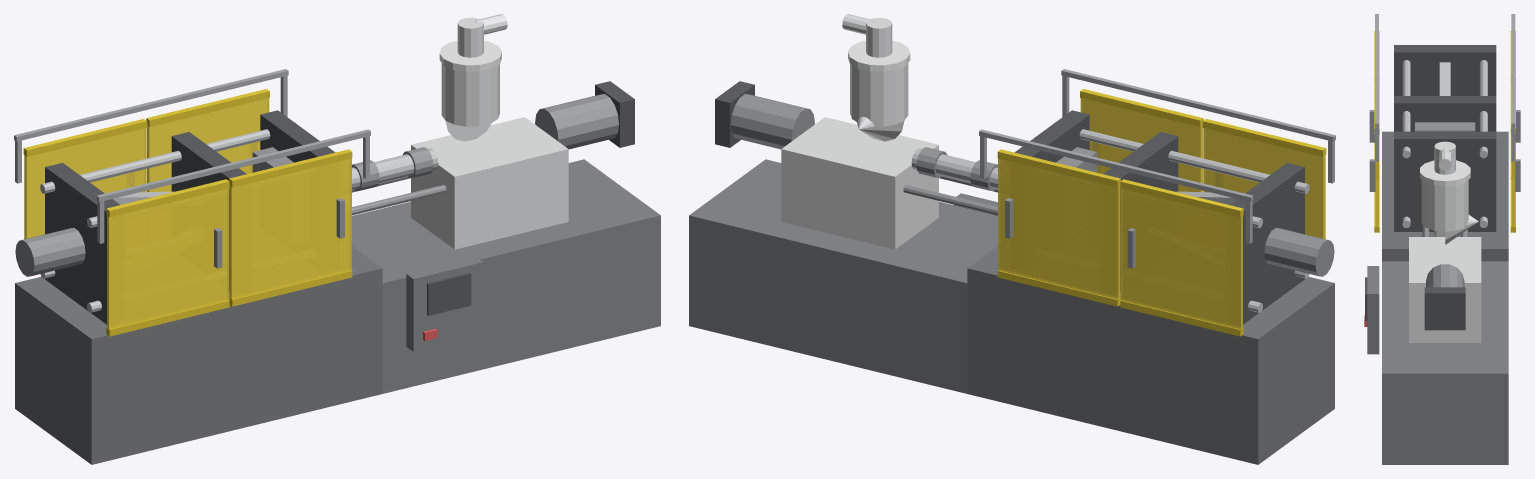
The model's file is injection_machine.glb.
The picture shows the model from 3 angles, left to right: view 1: azimuth 30°, elevation 25°; view 2: azimuth 150°, elevation 25°; view 3: azimuth 270°, elevation 25°; orthographic projection. The views are drawn at different scales.
Parts seen in each view (by area): view 1: part_0, part_1, part_42, part_35, part_31, part_10, part_24, part_58, part_20, part_50, part_53, part_19 (+17 smaller); view 2: part_0, part_1, part_42, part_24, part_20, part_10, part_35, part_31, part_50, part_53, part_19, part_9 (+16 smaller); view 3: part_1, part_8, part_42, part_10, part_0, part_9, part_53, part_51, part_58, part_54, part_50, part_16 (+15 smaller).
Part boxes in pixels (x1=…): part_0: x1=15, y1=246, x2=382, y2=464; part_1: x1=352, y1=159, x2=660, y2=393; part_42: x1=411, y1=117, x2=568, y2=249; part_35: x1=107, y1=180, x2=229, y2=334; part_31: x1=229, y1=151, x2=351, y2=305; part_10: x1=45, y1=162, x2=119, y2=324; part_24: x1=24, y1=122, x2=146, y2=239; part_58: x1=406, y1=257, x2=482, y2=351; part_20: x1=147, y1=89, x2=269, y2=191; part_50: x1=535, y1=94, x2=618, y2=149; part_53: x1=441, y1=63, x2=499, y2=126; part_19: x1=15, y1=227, x2=85, y2=276; part_0: x1=967, y1=246, x2=1334, y2=464; part_1: x1=689, y1=159, x2=997, y2=393; part_42: x1=781, y1=117, x2=938, y2=249; part_24: x1=1120, y1=180, x2=1242, y2=329; part_20: x1=998, y1=150, x2=1120, y2=305; part_10: x1=1230, y1=162, x2=1304, y2=324; part_35: x1=1203, y1=128, x2=1325, y2=239; part_31: x1=1080, y1=90, x2=1202, y2=191; part_50: x1=731, y1=94, x2=814, y2=149; part_53: x1=850, y1=63, x2=908, y2=126; part_19: x1=1264, y1=227, x2=1334, y2=276; part_9: x1=1103, y1=132, x2=1178, y2=290; part_1: x1=1382, y1=261, x2=1508, y2=464; part_8: x1=1394, y1=131, x2=1496, y2=231; part_42: x1=1409, y1=237, x2=1481, y2=342; part_10: x1=1394, y1=45, x2=1496, y2=95; part_0: x1=1382, y1=131, x2=1508, y2=261; part_9: x1=1394, y1=96, x2=1496, y2=131; part_53: x1=1421, y1=180, x2=1468, y2=231; part_51: x1=1424, y1=287, x2=1465, y2=330; part_58: x1=1367, y1=266, x2=1379, y2=354; part_54: x1=1420, y1=160, x2=1470, y2=186; part_50: x1=1426, y1=264, x2=1464, y2=287; part_16: x1=1415, y1=122, x2=1475, y2=131.
Bounding box in the file's own units: 4.73 × 2.36 × 1.3.
